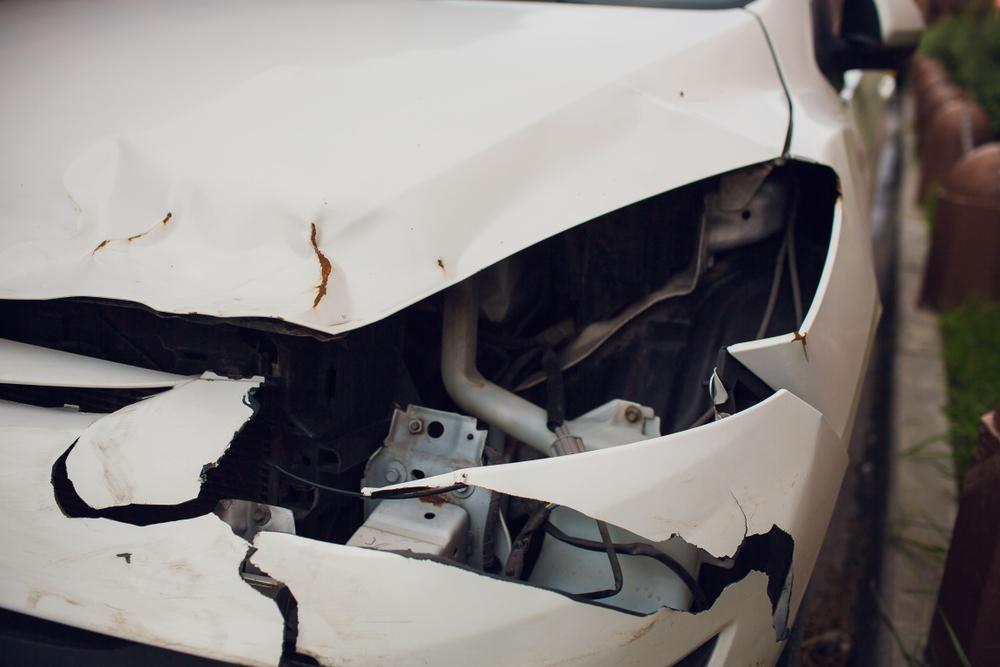crack: (50, 378, 796, 667)
dent: (0, 141, 403, 332)
